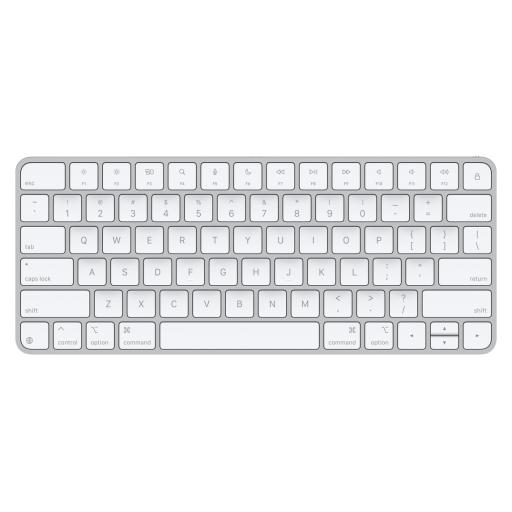KEYBOARD-2: (6, 144, 503, 360)
